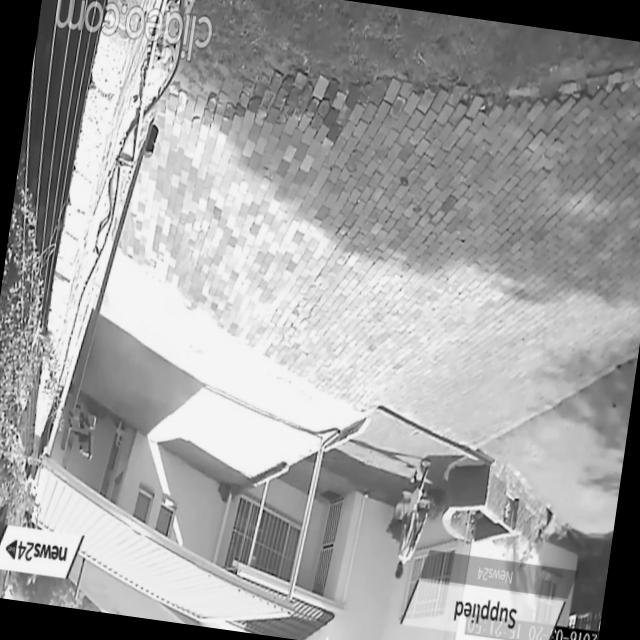weapon: (386, 453, 440, 598)
